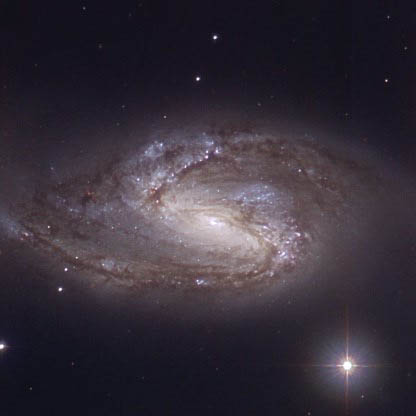Messier 66: (8, 101, 403, 388)
